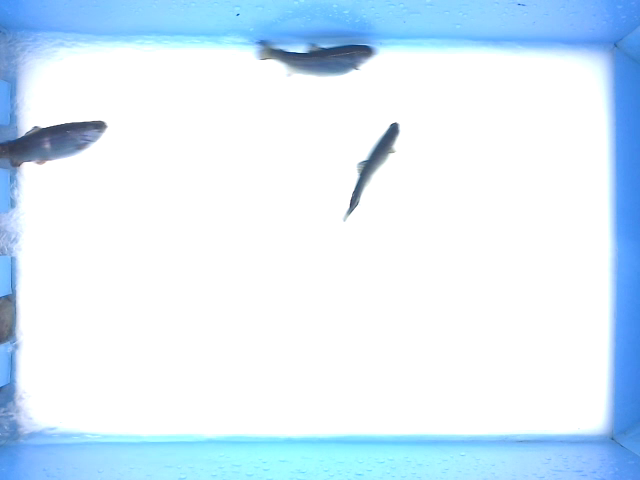fish: (338, 118, 403, 228), (1, 118, 110, 170), (252, 37, 379, 81)
